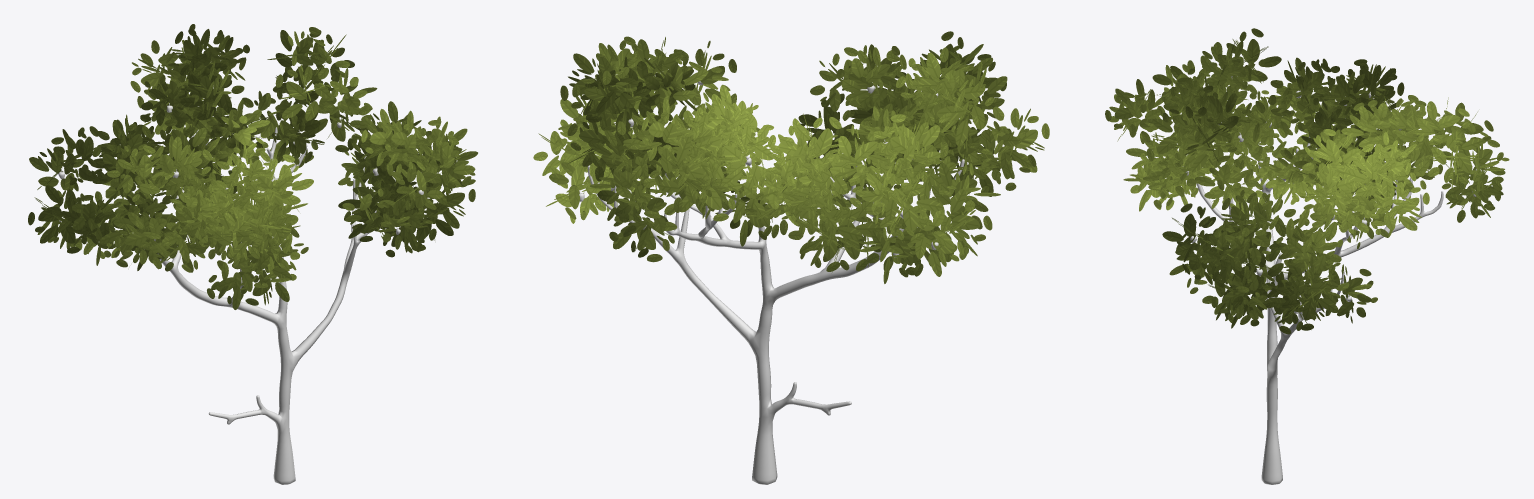
File: arvore_5.fbx
3 renders of one model, left to right at view 1: azimuth 30°, elevation 25°; view 2: azimuth 150°, elevation 25°; view 3: azimuth 270°, elevation 25°, orthographic. The views are drawn at different scales.
Visible parts, largest first — view 1: copa_5, tronco_5; view 2: copa_5, tronco_5; view 3: copa_5, tronco_5.
Part boxes in pixels (box(x1,y1,x2,y2)): copa_5: box(28, 24, 477, 309); tronco_5: box(148, 127, 369, 484); copa_5: box(533, 31, 1049, 283); tronco_5: box(587, 159, 964, 484); copa_5: box(1105, 28, 1509, 334); tronco_5: box(1196, 136, 1443, 484).
Size of the model in its own units: 7061 by 6527 by 6419.
